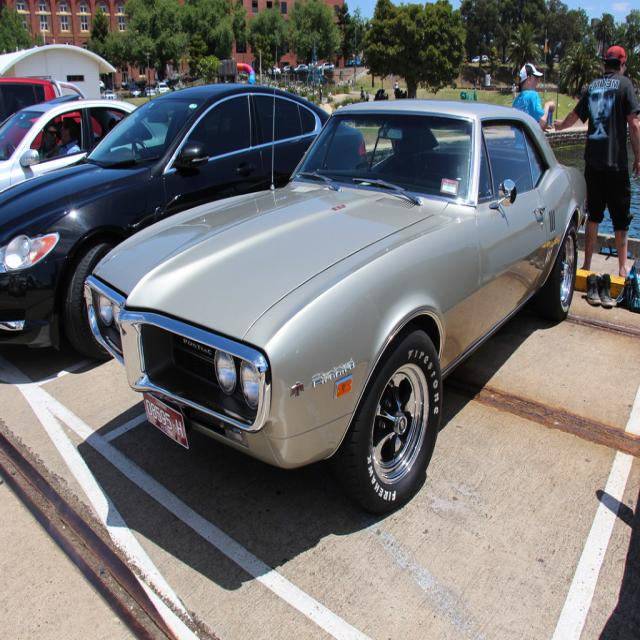car: (80, 24, 590, 519)
